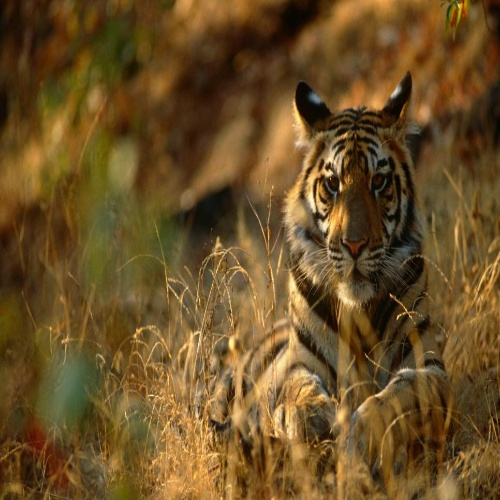tiger: (1, 1, 495, 495), (250, 60, 471, 460)
